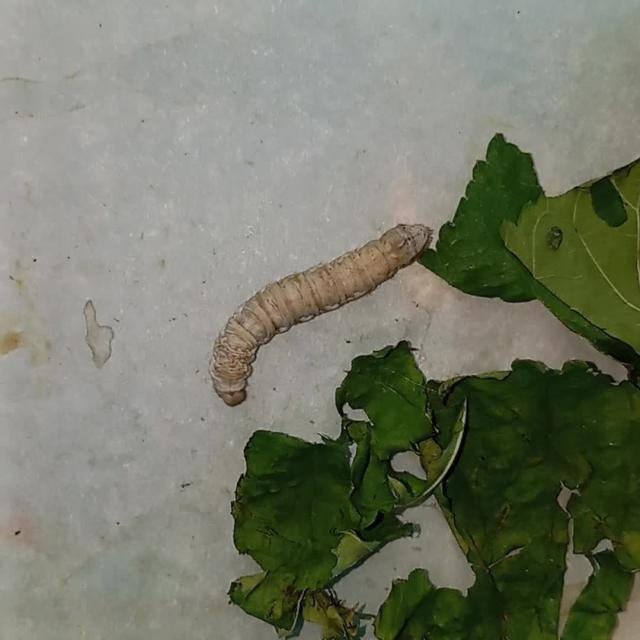Grasserie: (182, 208, 450, 414)
